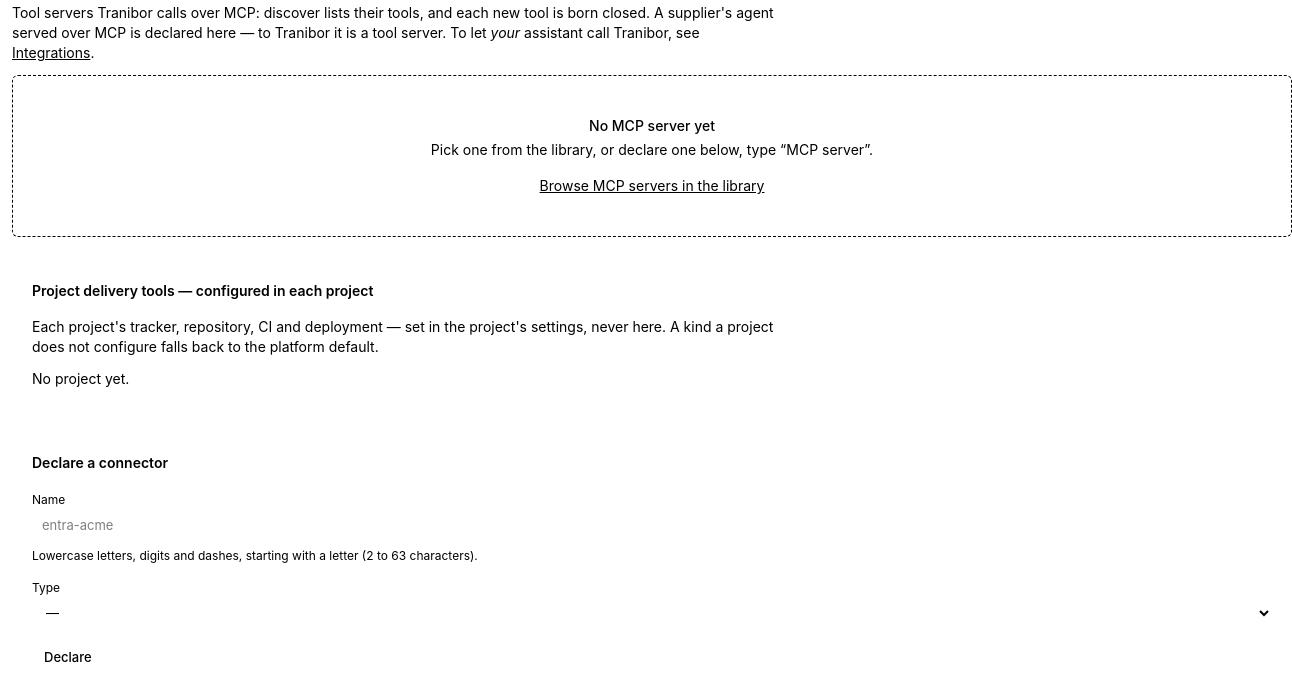
Scenario: data_handling editor (S40-01j) › does not turn another connector's data_handling-named field into the editor
(page scrolled)
Select "Search brave — documents" in the dropdown at (652, 613), box [32, 597, 1272, 629]
(page scrolled)
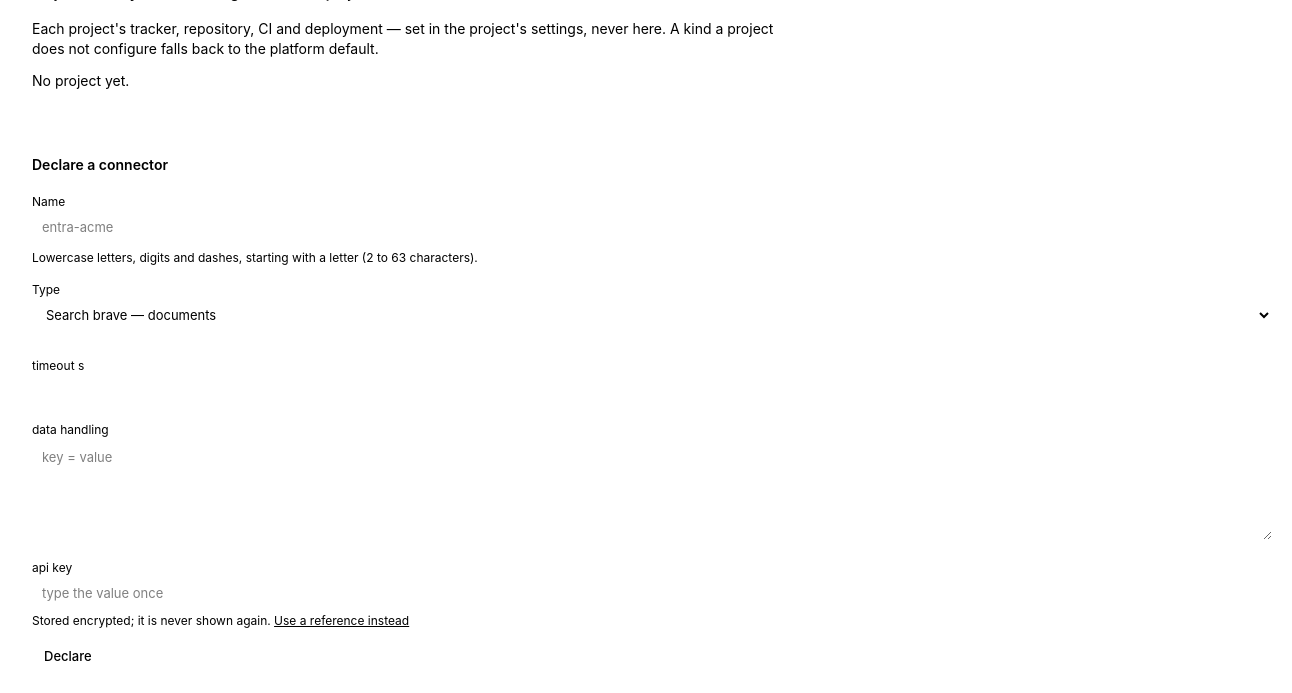
Now the text box labelled "data handling" is shown, box [32, 439, 1272, 540]
